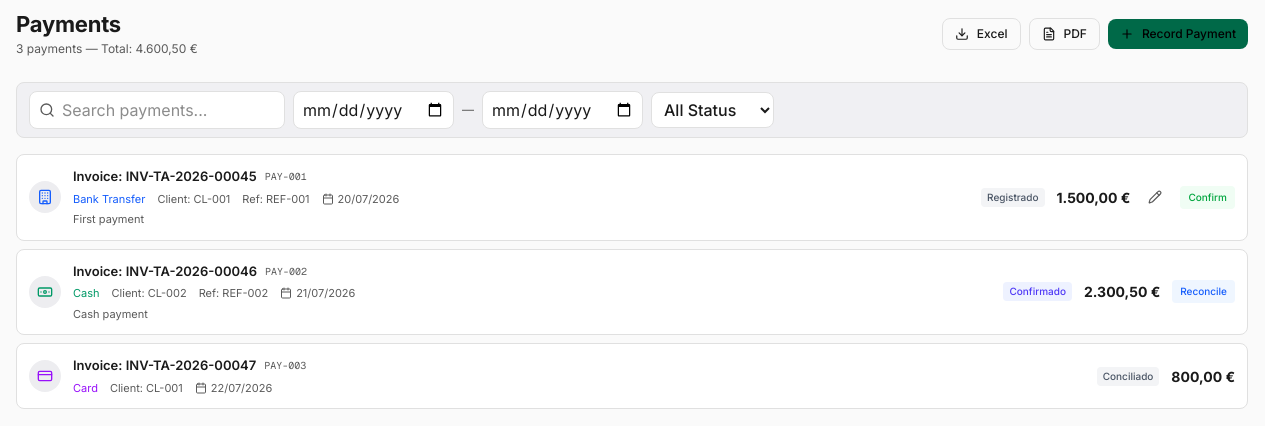
Test: PaymentsScreen › cancels inline confirm action
Expected: the text "Invoice: INV-TA-2026-00045" is shown, 73,167 -> 257,186
# Click Confirm button on the Registrado payment
Click the button "Confirm" at (1208, 197), box 1180,186 -> 1235,209
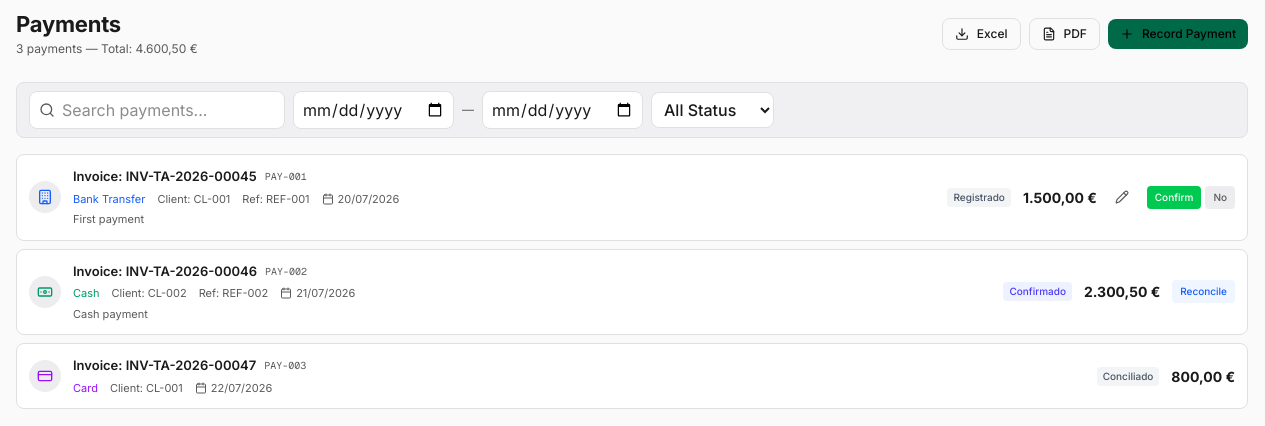
Now the button "No" is shown
Click the button "No" at (1220, 197), box 1205,186 -> 1235,209
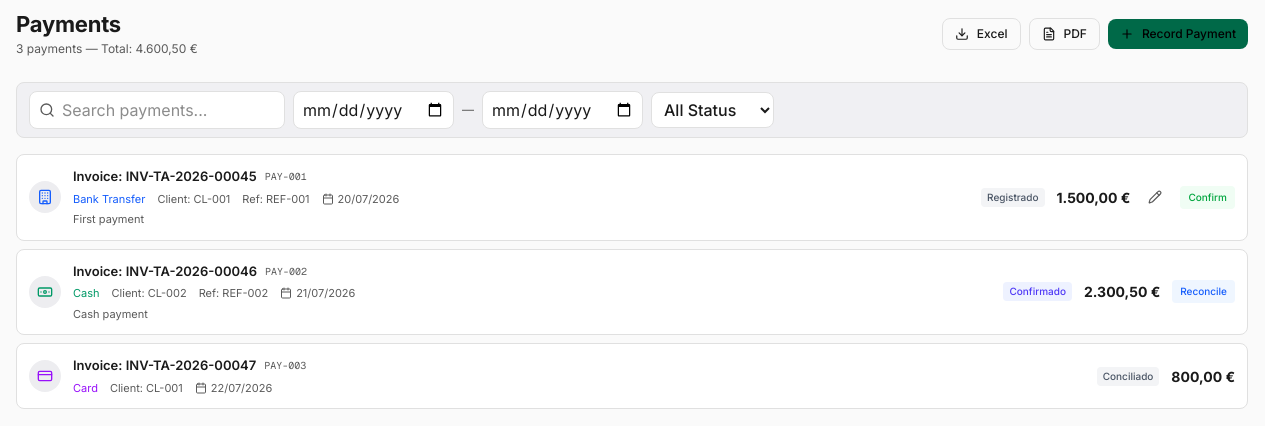
Now the button "No" is gone
